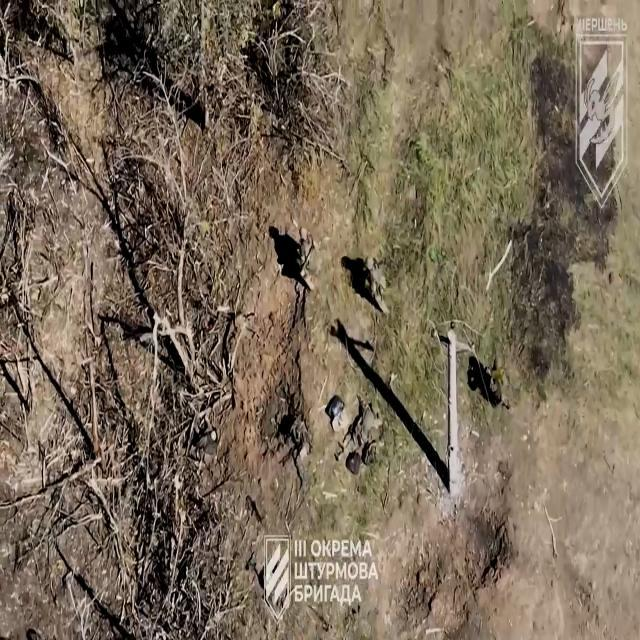MIL_Pax: (278, 413, 310, 474), (366, 258, 389, 313), (300, 227, 314, 290), (491, 358, 504, 393), (501, 396, 511, 410)
